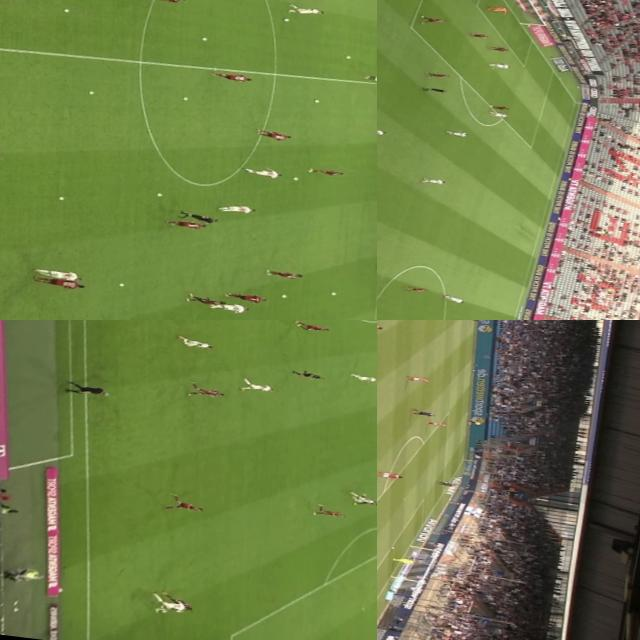ball: (196, 35, 208, 42), (388, 544, 399, 551), (178, 95, 188, 100), (310, 98, 320, 103), (328, 290, 336, 296), (281, 16, 289, 22), (280, 292, 286, 298), (85, 90, 92, 95), (153, 192, 161, 196), (60, 8, 68, 12), (158, 608, 166, 612), (344, 54, 350, 59), (292, 175, 298, 180), (116, 282, 122, 286), (58, 196, 64, 200)
player: (164, 494, 208, 515), (29, 273, 82, 289), (29, 264, 80, 280), (145, 592, 186, 611), (205, 67, 252, 83), (156, 592, 193, 612), (185, 384, 232, 399), (242, 380, 282, 396), (310, 504, 350, 520), (180, 292, 225, 306), (173, 336, 217, 350), (289, 320, 330, 334), (285, 2, 325, 16), (228, 290, 266, 304), (243, 164, 280, 178), (210, 302, 250, 314), (163, 217, 206, 228), (215, 203, 257, 214), (255, 128, 292, 140), (346, 492, 374, 506), (417, 14, 449, 26), (264, 268, 300, 278), (403, 282, 432, 294), (349, 371, 377, 383), (306, 167, 342, 176), (420, 176, 449, 187), (421, 70, 452, 80), (354, 495, 377, 508), (440, 130, 474, 138), (482, 6, 512, 15), (390, 556, 417, 566), (488, 60, 512, 70), (486, 44, 510, 54), (377, 470, 403, 479), (443, 294, 466, 304), (140, 0, 185, 5), (489, 102, 514, 111), (411, 408, 436, 417), (407, 376, 434, 384), (361, 72, 377, 85), (466, 32, 492, 40), (488, 110, 509, 118), (435, 480, 455, 488), (377, 125, 389, 137), (429, 421, 446, 428), (377, 320, 384, 330)
